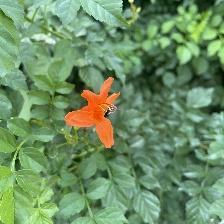honeysuckle: (65, 77, 121, 150)
